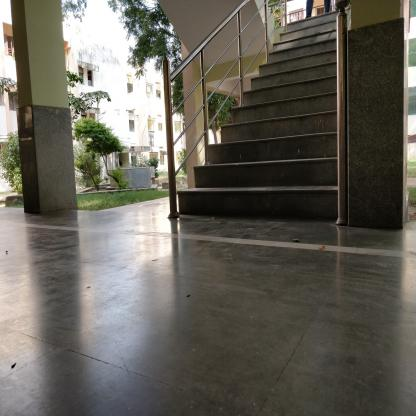stairs: (273, 40, 336, 230)
